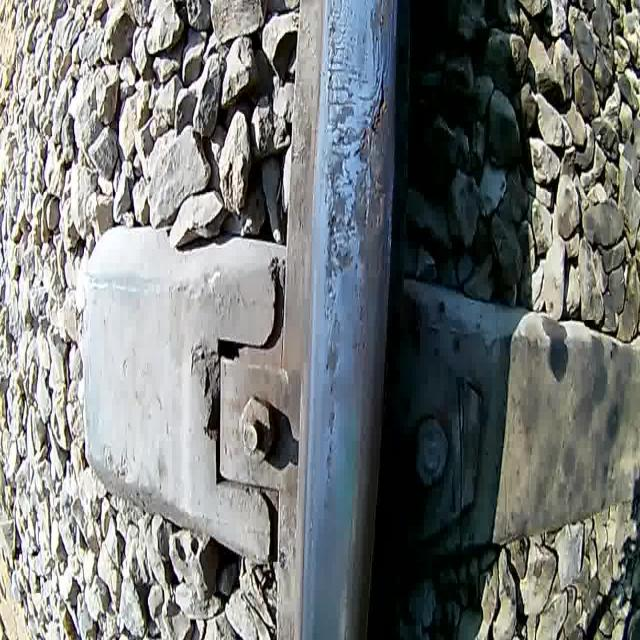Cracks: (365, 48, 391, 154)
Squats: (322, 0, 396, 526)
